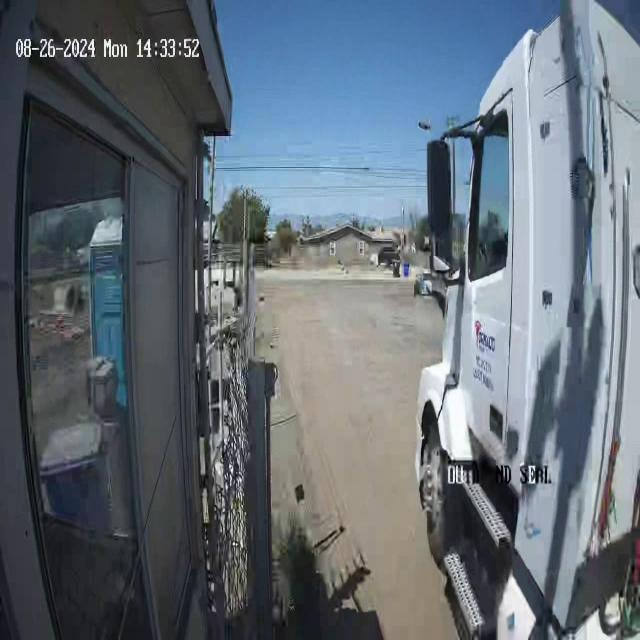TRUCK_OUT: (415, 2, 639, 636)
